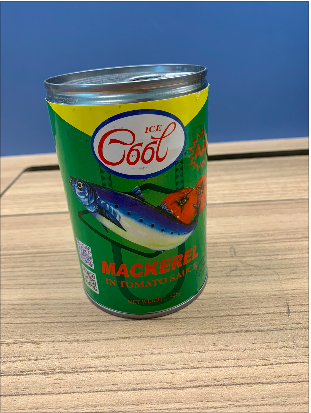Sardines_400-499g: (75, 101, 199, 292)
